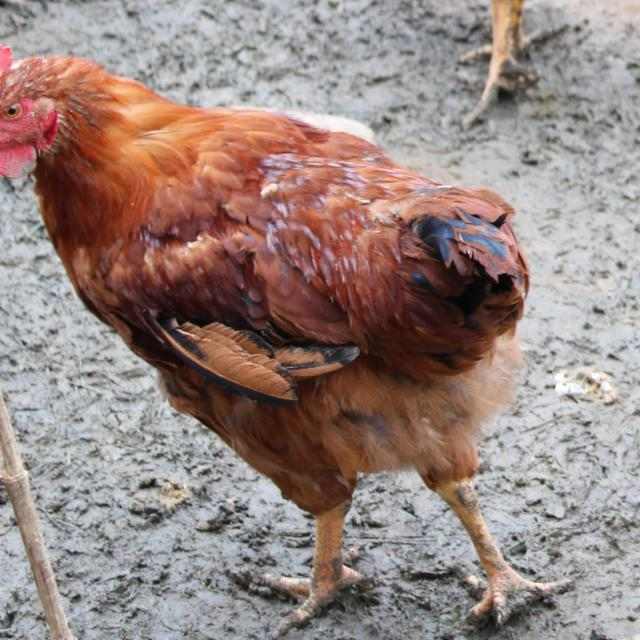cook: (0, 46, 568, 634)
